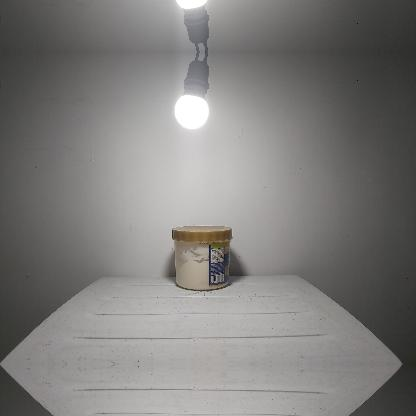Lady-s-Choice: (171, 224, 233, 290)
